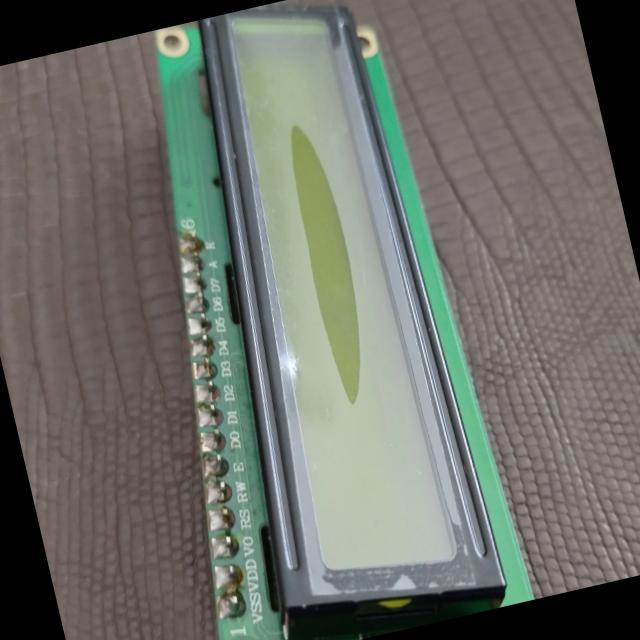lcd: (73, 0, 535, 640)
